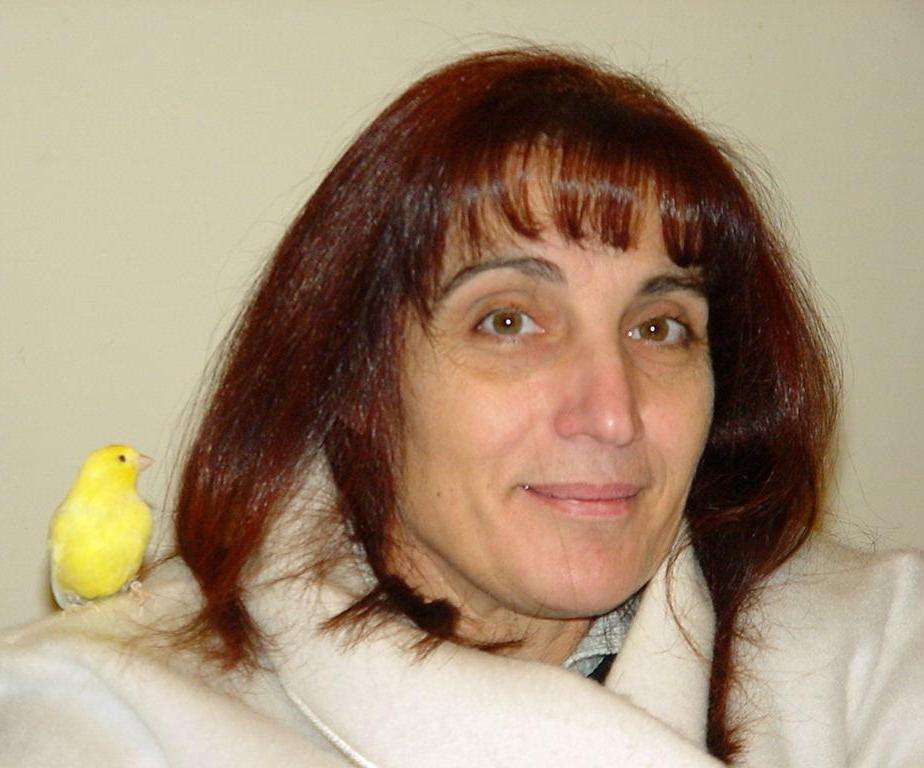Eyebags: (466, 331, 560, 380), (621, 342, 706, 381)
